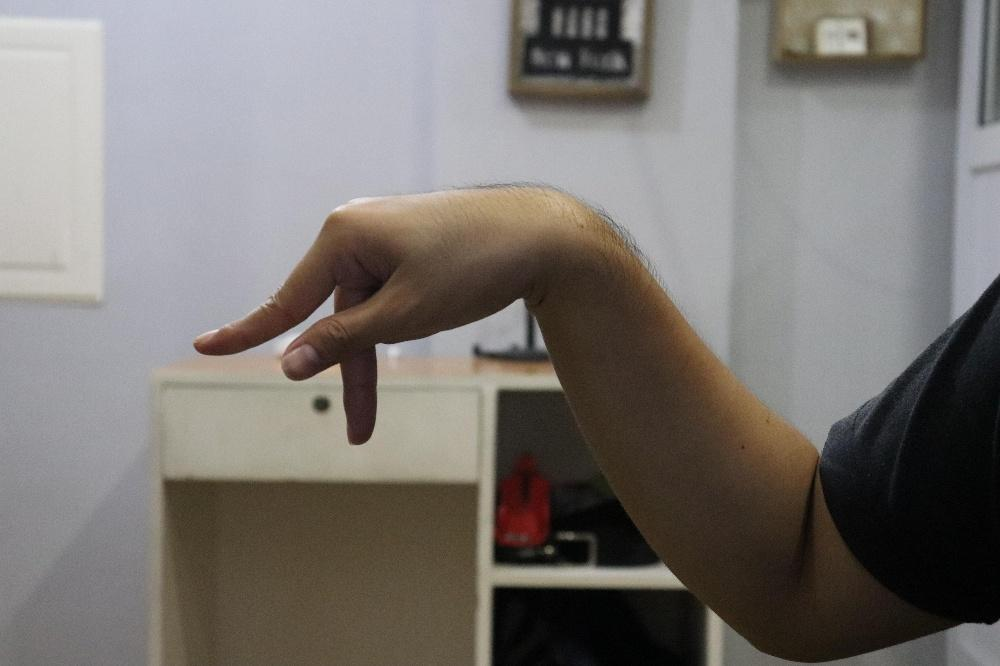p: (191, 183, 615, 445)
